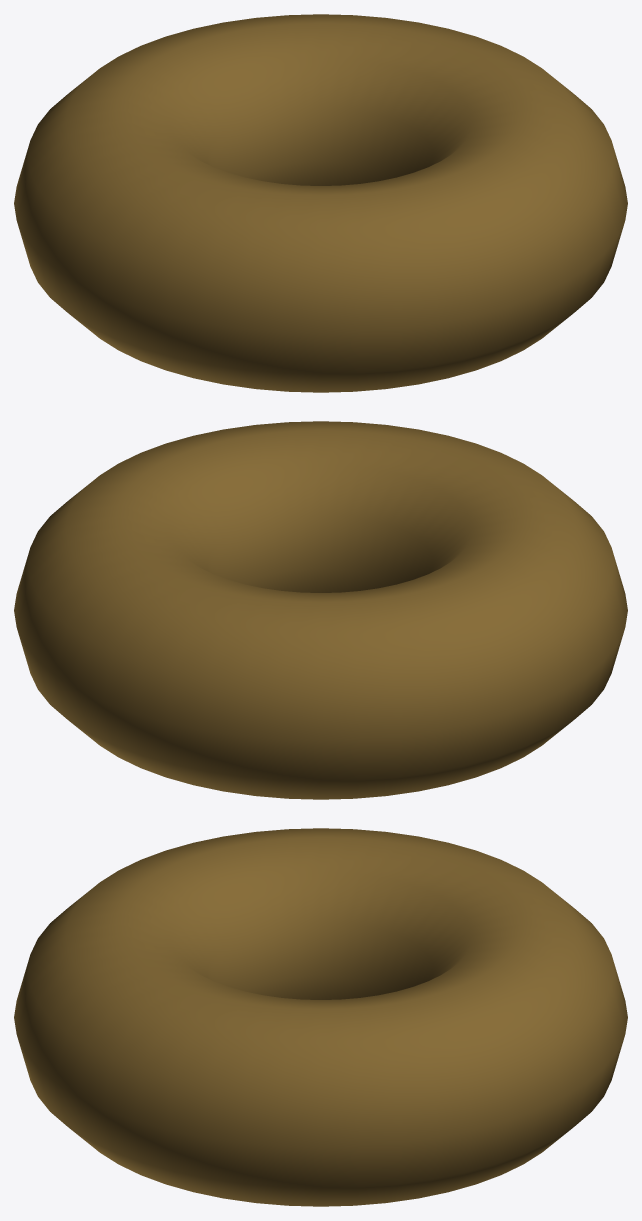
The model's file is Donut.fbx.
3 views of the same model, one above another, from view 1: azimuth 30°, elevation 25°; view 2: azimuth 150°, elevation 25°; view 3: azimuth 270°, elevation 25° (orthographic).
Parts seen in each view (by area): view 1: Torus; view 2: Torus; view 3: Torus.
Part boxes in pixels (x1=…): Torus: x1=14, y1=14, x2=627, y2=392; Torus: x1=14, y1=421, x2=627, y2=799; Torus: x1=14, y1=828, x2=627, y2=1206.
Bounding box in the file's own units: 302 × 102 × 302.
